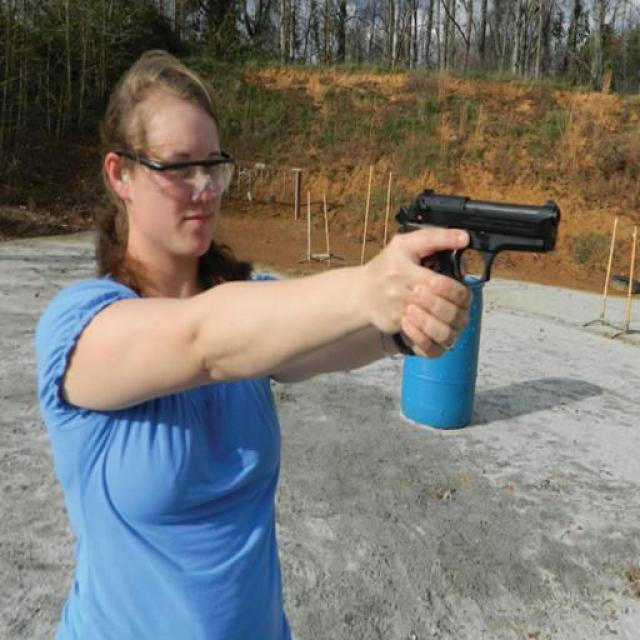pistol: (396, 189, 561, 354)
